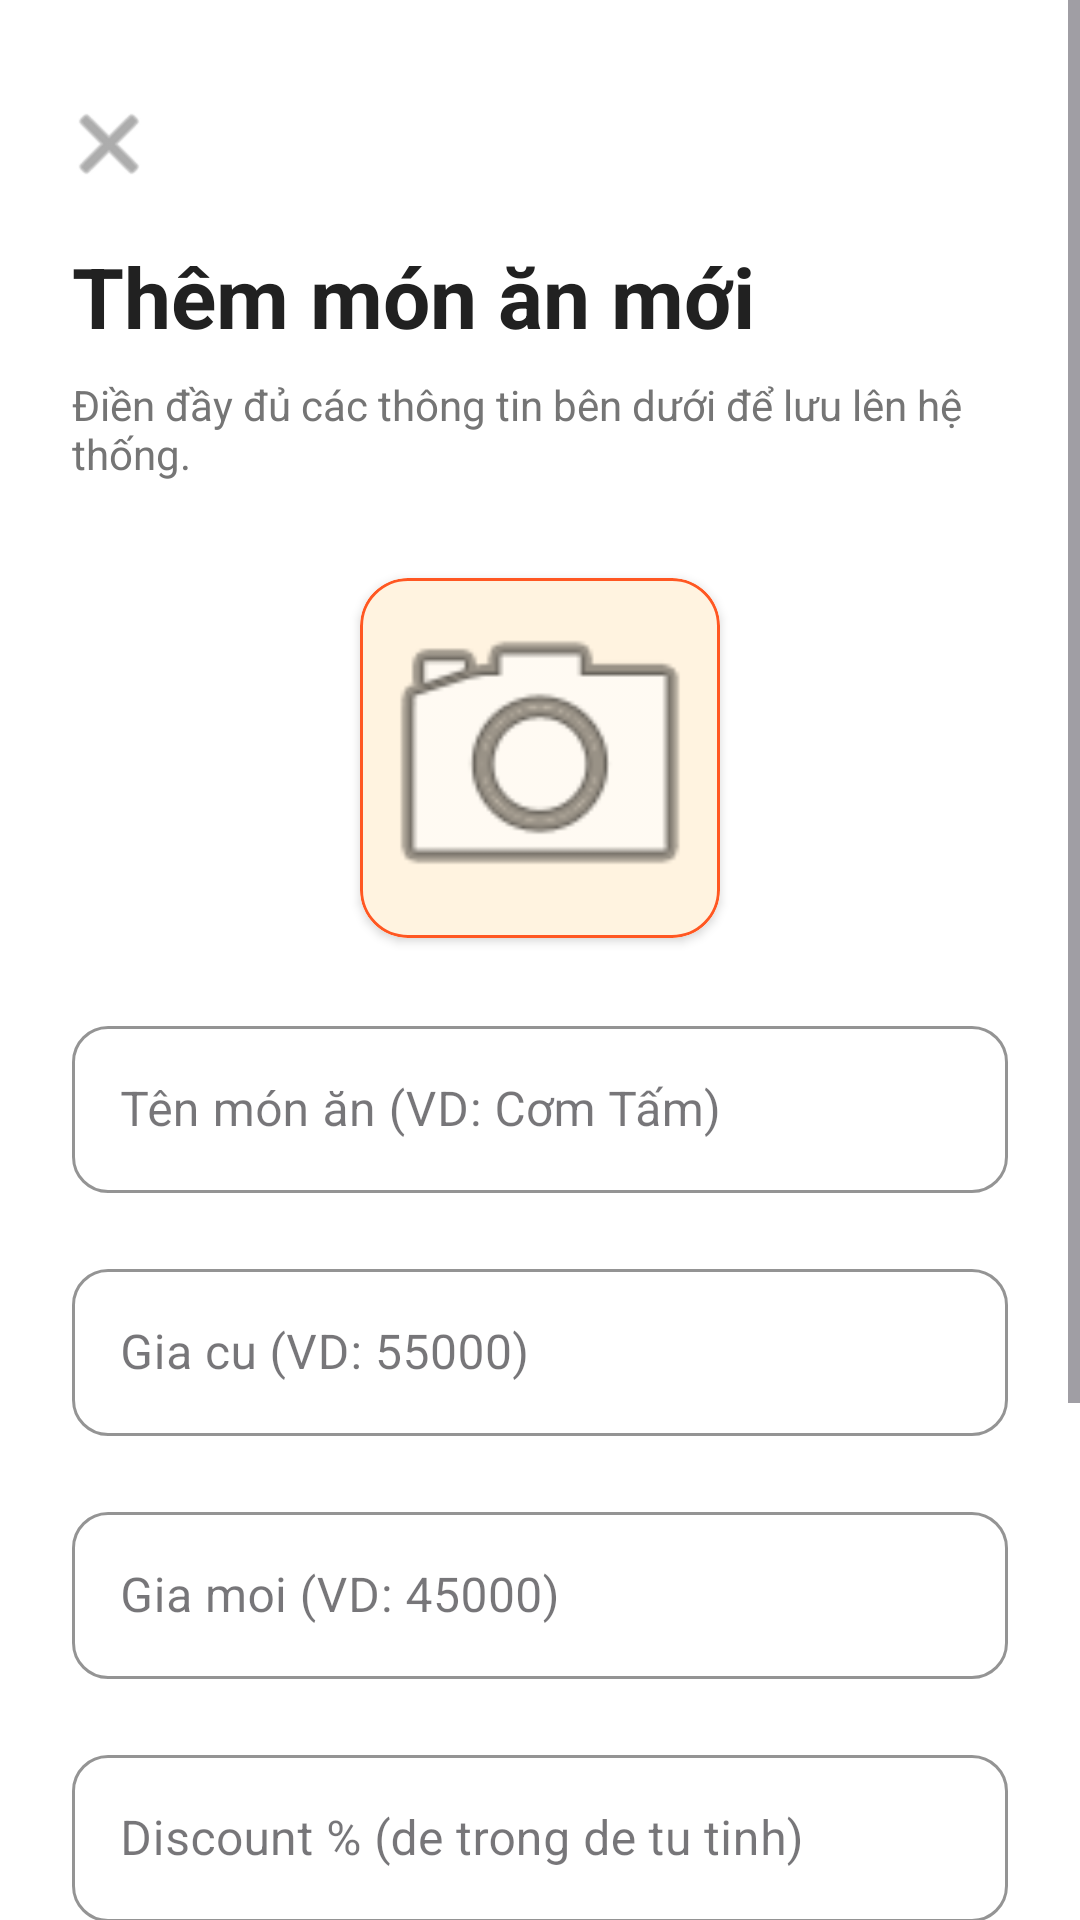

Named icons in this screenshot (1080w x 1920h) and their centers, (x=x, y=y):
camera: (x=540, y=758)
close clear cancel: (x=109, y=144)
